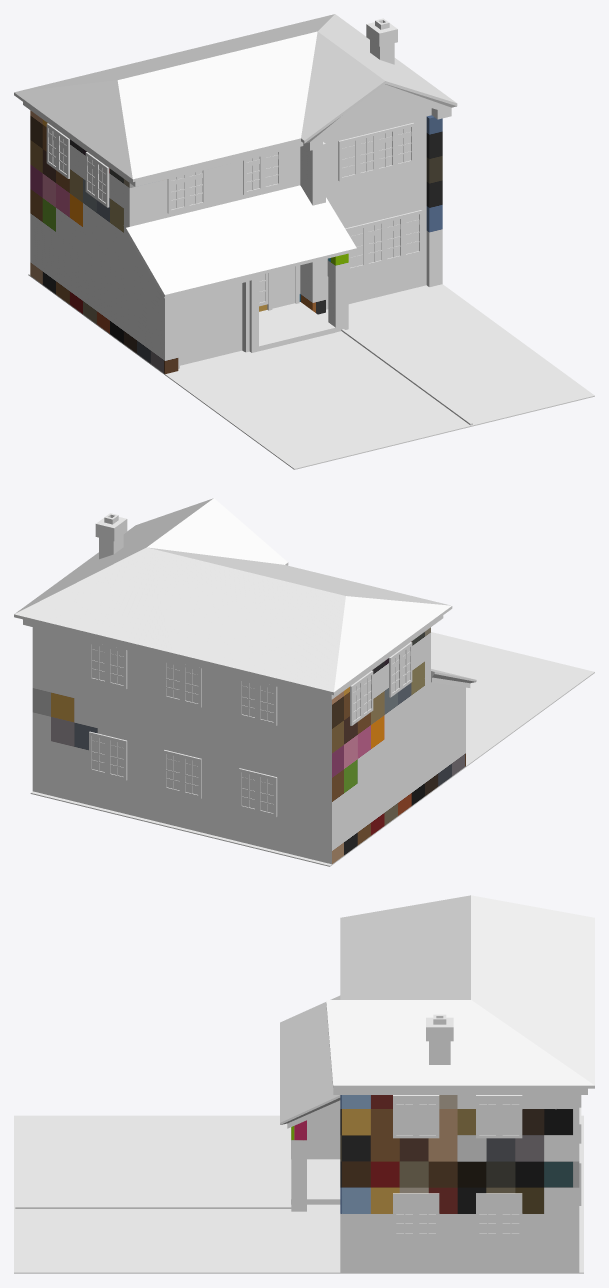
File: House with driveway.glb
The picture shows the model from 3 angles, top to bottom: view 1: azimuth 30°, elevation 25°; view 2: azimuth 150°, elevation 25°; view 3: azimuth 270°, elevation 25°; orthographic projection. The views are drawn at different scales.
Visible parts, largest first — view 1: HouseWithDriveway_Mesh; view 2: HouseWithDriveway_Mesh; view 3: HouseWithDriveway_Mesh.
Part boxes in pixels (x1,y1,x2,y2): HouseWithDriveway_Mesh: [14, 14, 594, 469]; HouseWithDriveway_Mesh: [14, 498, 594, 866]; HouseWithDriveway_Mesh: [14, 895, 594, 1273].
Size of the model in its own units: 23.31 by 16.15 by 34.1.
Materials: 1 (1 with a texture image).
